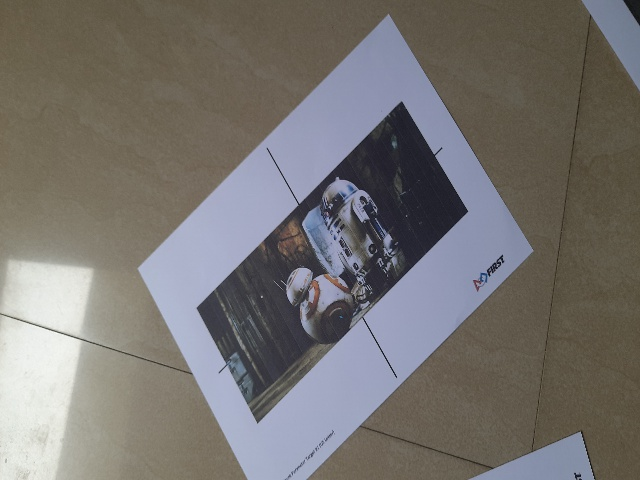fpt2: (141, 97, 524, 429)
